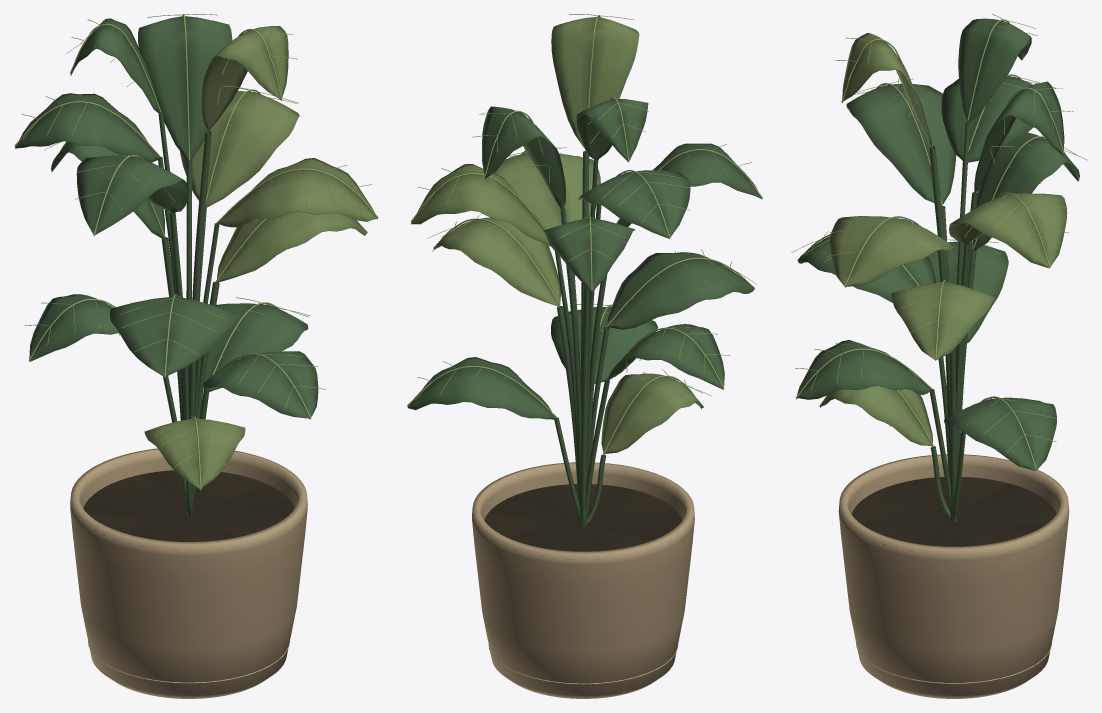
Rendered from floorplant.glb.
The picture shows the model from 3 angles, left to right: view 1: azimuth 30°, elevation 25°; view 2: azimuth 150°, elevation 25°; view 3: azimuth 270°, elevation 25°; orthographic projection. The views are drawn at different scales.
Visible parts, largest first — view 1: Atelier_Floorplant; view 2: Atelier_Floorplant; view 3: Atelier_Floorplant.
Part boxes in pixels (box(x1,y1,x2,y2)): Atelier_Floorplant: box(14, 14, 378, 698); Atelier_Floorplant: box(407, 14, 762, 698); Atelier_Floorplant: box(791, 14, 1087, 698).
Size of the model in its own units: 1.11 by 2.14 by 0.9061.
